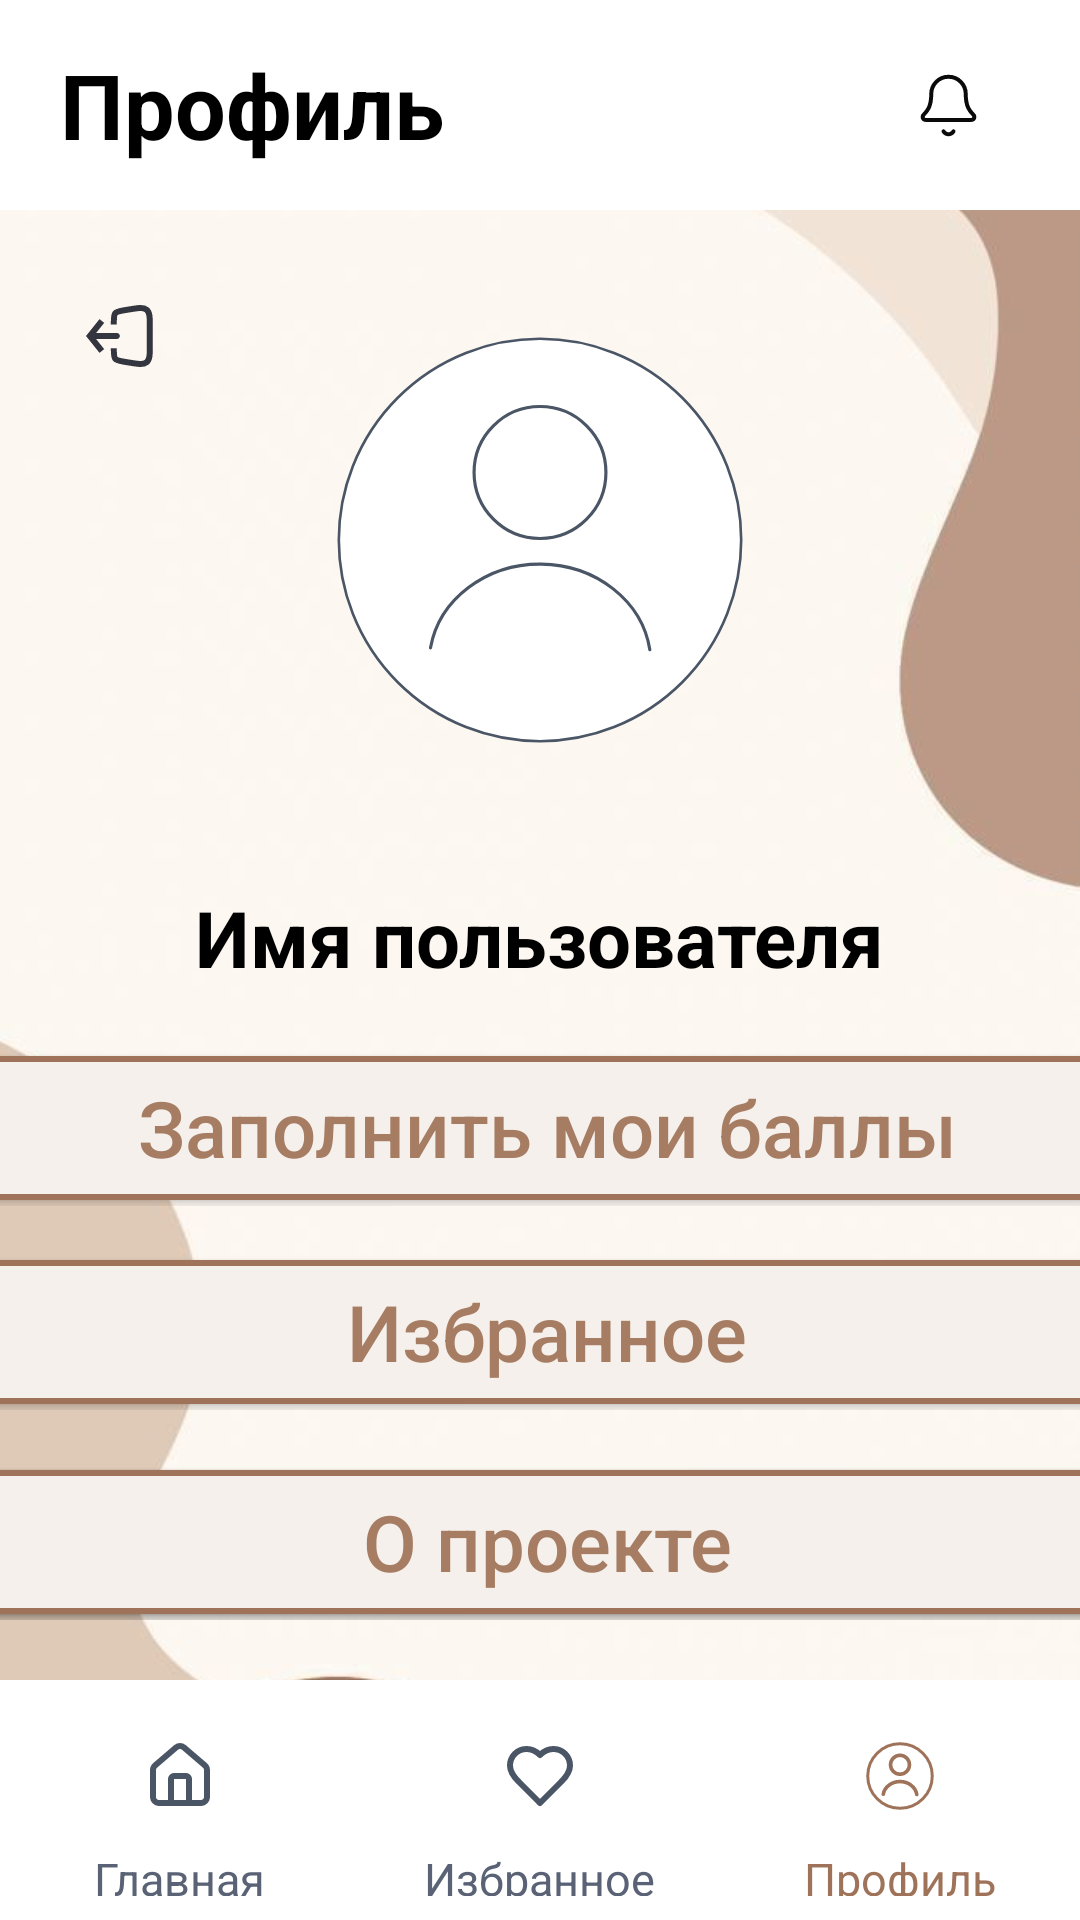

Where to tap for icons on this 1080px×1920px app screen, as [x,y]:
favoritelt: [540,1776]
homelt: [180,1774]
notificationlt: [948,105]
profileltc: [900,1776]
